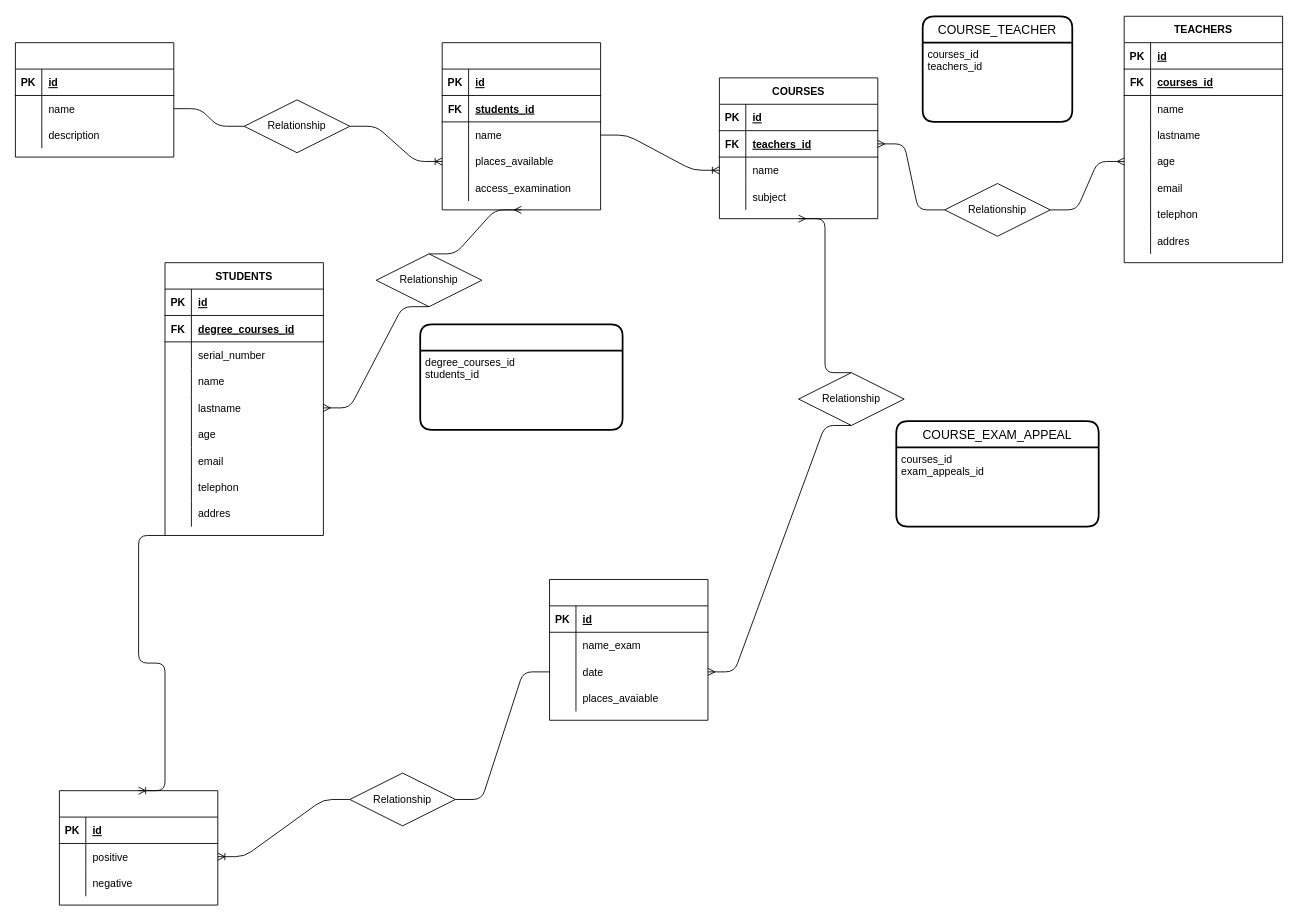
Some shapes in this 1298 by 920 pixel diagram are drawn without their labels. The shapes that lost their labels are listed below. From the top down, each one's box as (x1, y1, x2, y2) in pixels, then its label:
(15, 42, 174, 157): DEPARTMENTS
(441, 42, 601, 210): DEGREE_COURSES
(419, 323, 623, 430): DEGREE_COURSE_STUDENT
(549, 579, 708, 720): EXAM_APPEALS
(59, 790, 218, 905): VOTES
